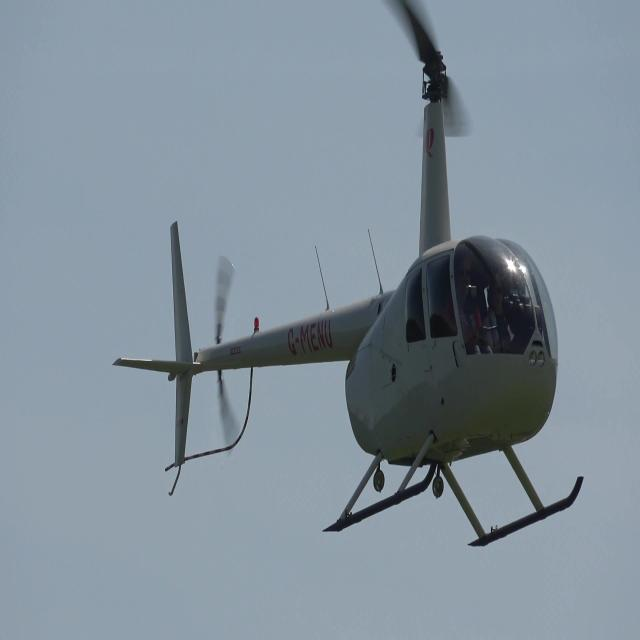CIV_HELO: (111, 48, 585, 554)
